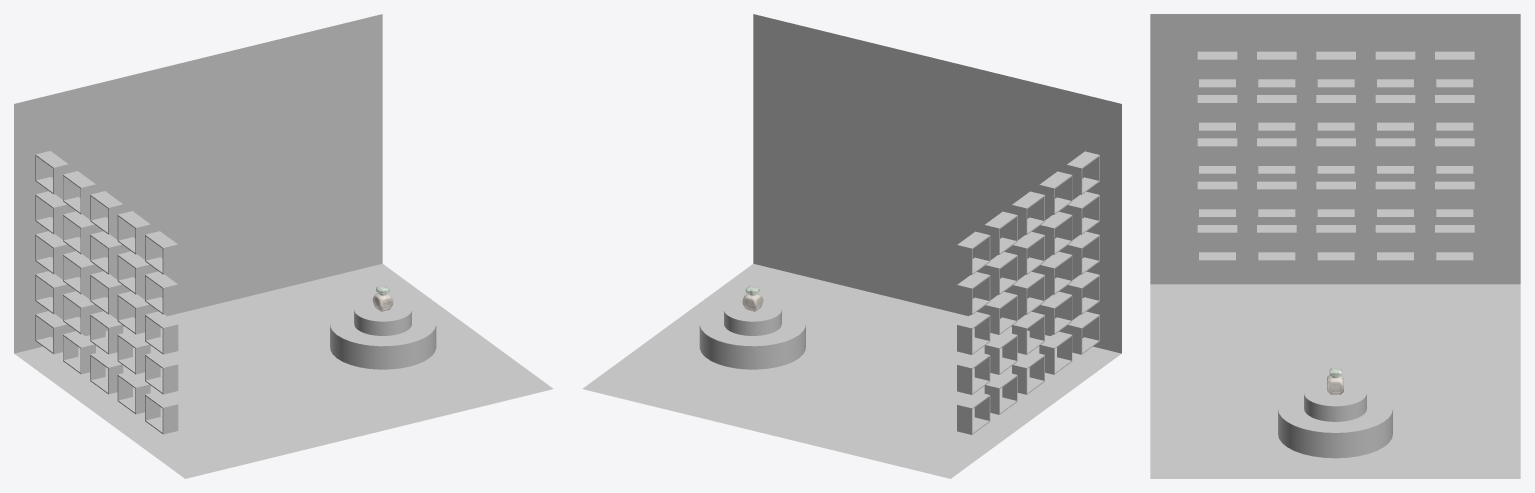
Rendered from dior-2.glb.
3 renders of one model, left to right at view 1: azimuth 30°, elevation 25°; view 2: azimuth 150°, elevation 25°; view 3: azimuth 270°, elevation 25°, orthographic. The views are drawn at different scales.
Visible parts, largest first — view 1: walls, floor-ceiling, Circle, perfume-holder, perfume-holder.005, perfume-holder.010, perfume-holder.015, perfume-holder.020, perfume-holder.002, perfume-holder.004, perfume-holder.001, perfume-holder.003 (+16 smaller); view 2: walls, floor-ceiling, Circle, perfume-holder.004, perfume-holder.019, perfume-holder.024, perfume-holder.009, perfume-holder.014, perfume-holder, perfume-holder.001, perfume-holder.002, perfume-holder.003 (+16 smaller); view 3: walls, floor-ceiling, Circle, perfume-holder, perfume-holder.003, perfume-holder.015, perfume-holder.018, perfume-holder.001, perfume-holder.002, perfume-holder.004, perfume-holder.016, perfume-holder.017 (+17 smaller).
Boxes of the visible parts, x1=… form: walls: x1=14, y1=14, x2=382, y2=353; floor-ceiling: x1=14, y1=264, x2=553, y2=478; Circle: x1=330, y1=297, x2=436, y2=369; perfume-holder: x1=145, y1=231, x2=178, y2=274; perfume-holder.005: x1=145, y1=271, x2=178, y2=314; perfume-holder.010: x1=145, y1=311, x2=178, y2=354; perfume-holder.015: x1=145, y1=351, x2=178, y2=394; perfume-holder.020: x1=145, y1=391, x2=178, y2=434; perfume-holder.002: x1=90, y1=191, x2=123, y2=234; perfume-holder.004: x1=35, y1=151, x2=68, y2=194; perfume-holder.001: x1=117, y1=211, x2=150, y2=254; perfume-holder.003: x1=63, y1=171, x2=95, y2=214; walls: x1=753, y1=14, x2=1121, y2=353; floor-ceiling: x1=582, y1=264, x2=1121, y2=478; Circle: x1=699, y1=297, x2=805, y2=369; perfume-holder.004: x1=957, y1=231, x2=990, y2=274; perfume-holder.019: x1=957, y1=352, x2=990, y2=394; perfume-holder.024: x1=957, y1=391, x2=990, y2=434; perfume-holder.009: x1=957, y1=272, x2=990, y2=314; perfume-holder.014: x1=957, y1=312, x2=990, y2=354; perfume-holder: x1=1066, y1=151, x2=1099, y2=194; perfume-holder.001: x1=1039, y1=171, x2=1072, y2=214; perfume-holder.002: x1=1012, y1=191, x2=1044, y2=234; perfume-holder.003: x1=984, y1=211, x2=1017, y2=254; walls: x1=1150, y1=14, x2=1520, y2=284; floor-ceiling: x1=1150, y1=284, x2=1520, y2=478; Circle: x1=1278, y1=380, x2=1392, y2=458; perfume-holder: x1=1197, y1=51, x2=1237, y2=88; perfume-holder.003: x1=1375, y1=51, x2=1415, y2=88; perfume-holder.015: x1=1197, y1=181, x2=1237, y2=218; perfume-holder.018: x1=1375, y1=181, x2=1415, y2=218; perfume-holder.001: x1=1257, y1=51, x2=1296, y2=88; perfume-holder.002: x1=1316, y1=51, x2=1355, y2=88; perfume-holder.004: x1=1435, y1=51, x2=1474, y2=88; perfume-holder.016: x1=1257, y1=181, x2=1296, y2=218; perfume-holder.017: x1=1316, y1=181, x2=1355, y2=218.
Bounding box in the file's own units: 8 × 5.18 × 6.44.
1 material, 1 textured.
